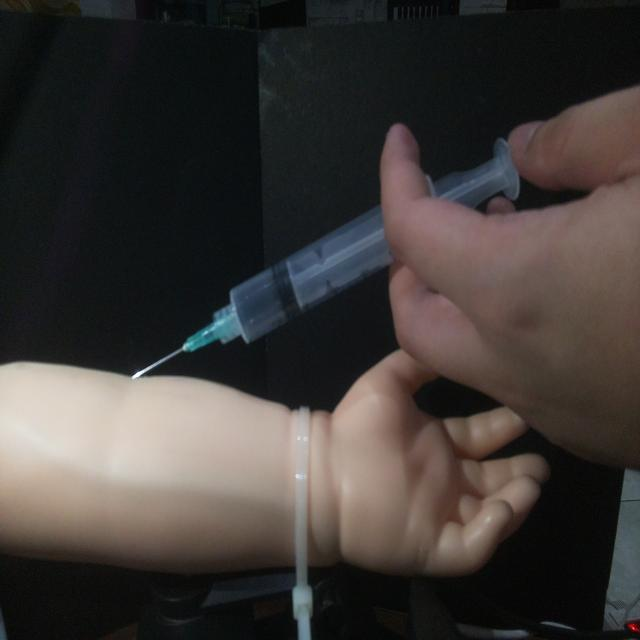22deg: (126, 132, 523, 382)
